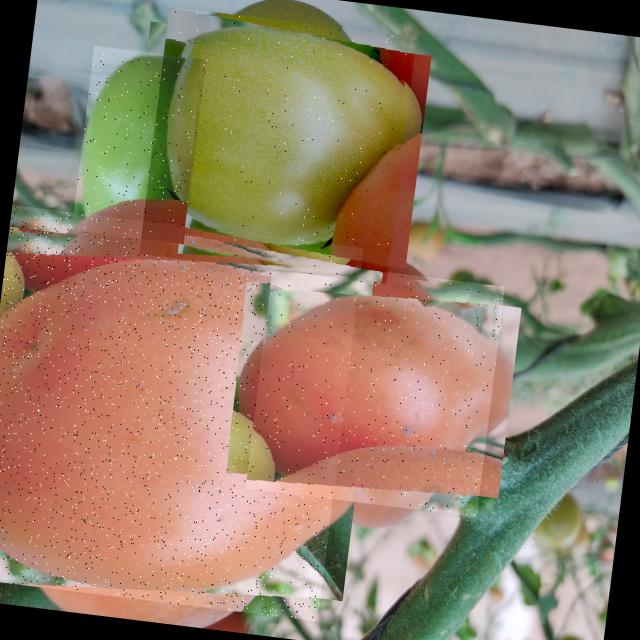Ripe Tomato: (0, 204, 363, 620), (245, 257, 505, 516)
Unripe Tomato: (139, 7, 416, 284), (71, 45, 206, 244)
